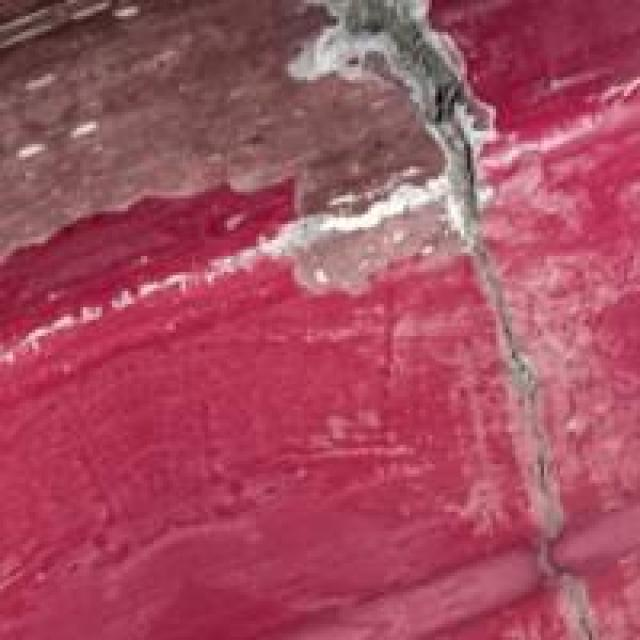crack: (243, 0, 611, 637)
